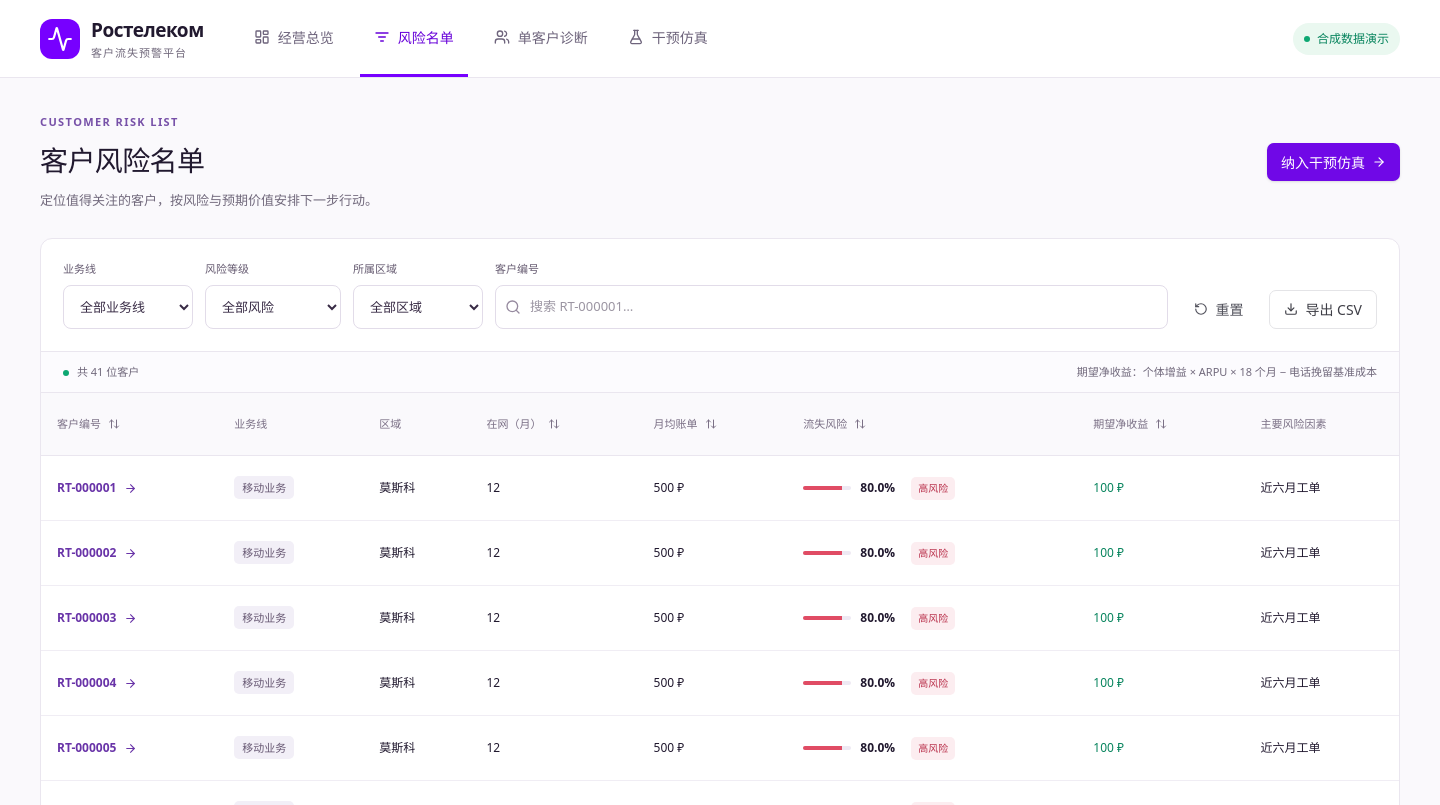
risk list › debounces a search, handles an empty result, and clears filters
This screenshot has width=1440, height=805.
Expected: the link "RT-000001" is shown, x1=57 y1=479 x2=137 y2=496
Type "MISSING" into the field with placeholder "搜索 RT-000001…". click: (832, 306)
box: x1=495 y1=284 x2=1168 y2=328
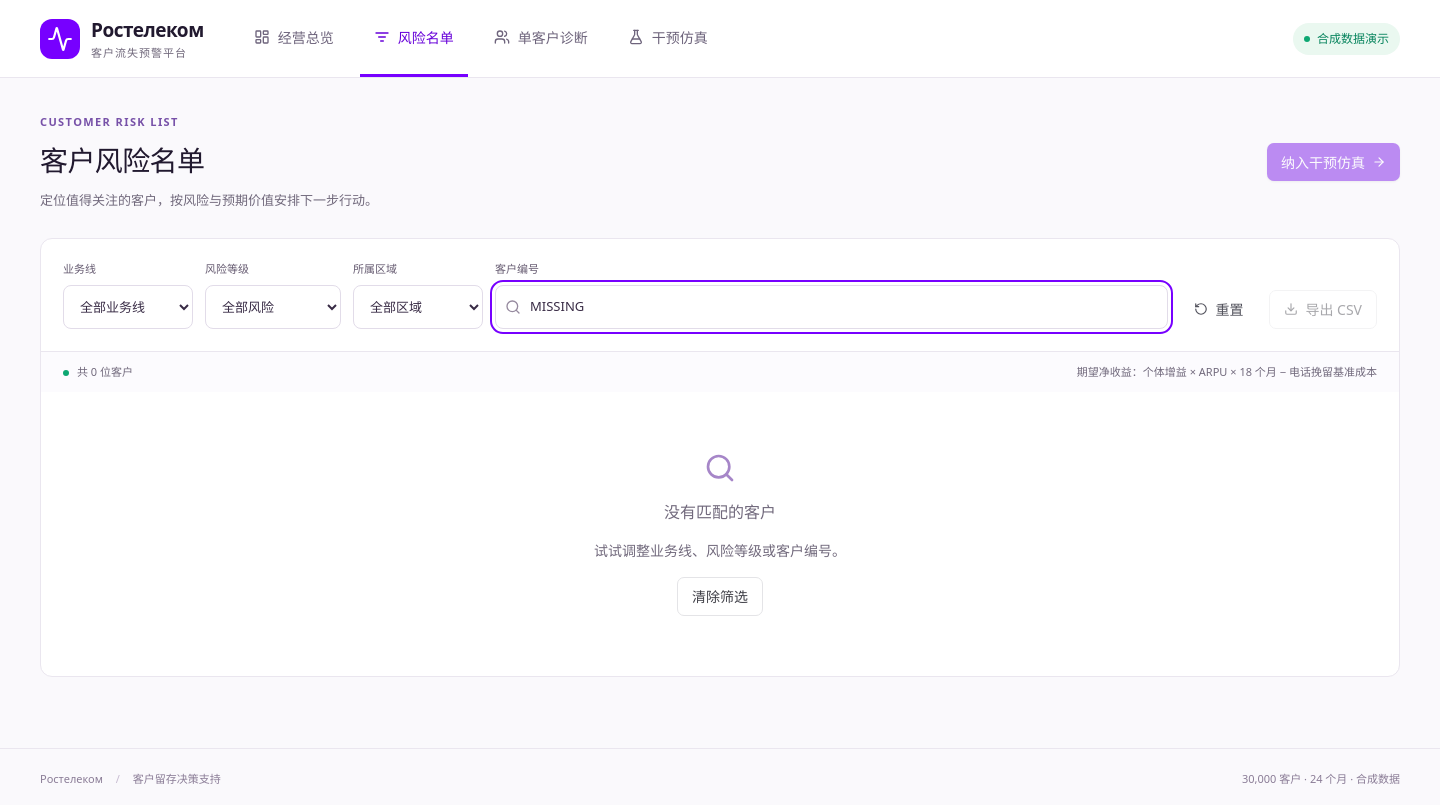
Expected: the heading "没有匹配的客户" is shown, x1=664 y1=500 x2=776 y2=524
Expected: the button "导出 CSV" is disabled, x1=1269 y1=290 x2=1377 y2=328
Expected: the button "纳入干预仿真" is disabled, x1=1267 y1=143 x2=1400 y2=181
Click the button "清除筛选". click: (720, 596)
box: x1=677 y1=577 x2=763 y2=616
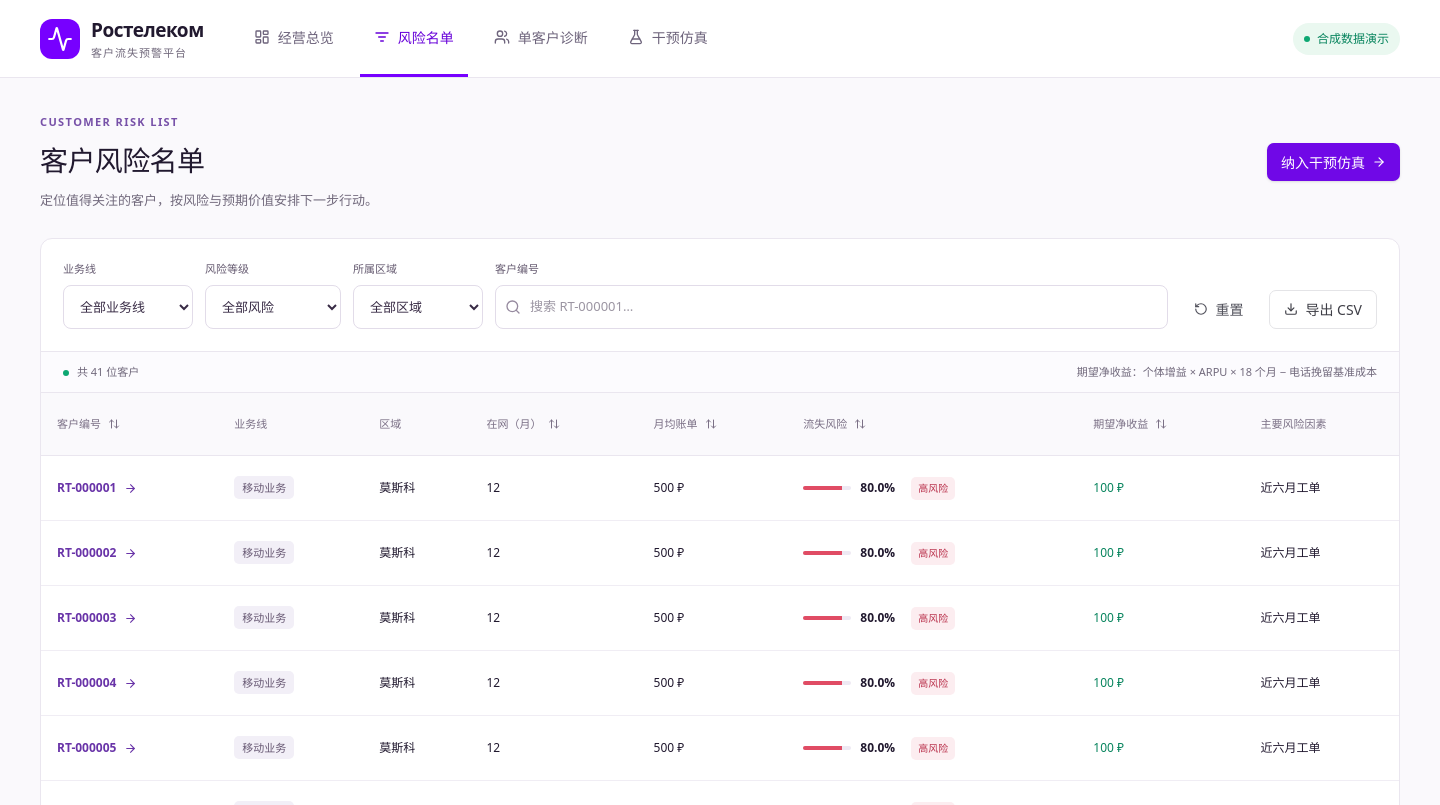
Expected: the link "RT-000001" is shown, x1=57 y1=479 x2=137 y2=496
Expected: the field with placeholder "搜索 RT-000001…" is empty, x1=495 y1=284 x2=1168 y2=328
